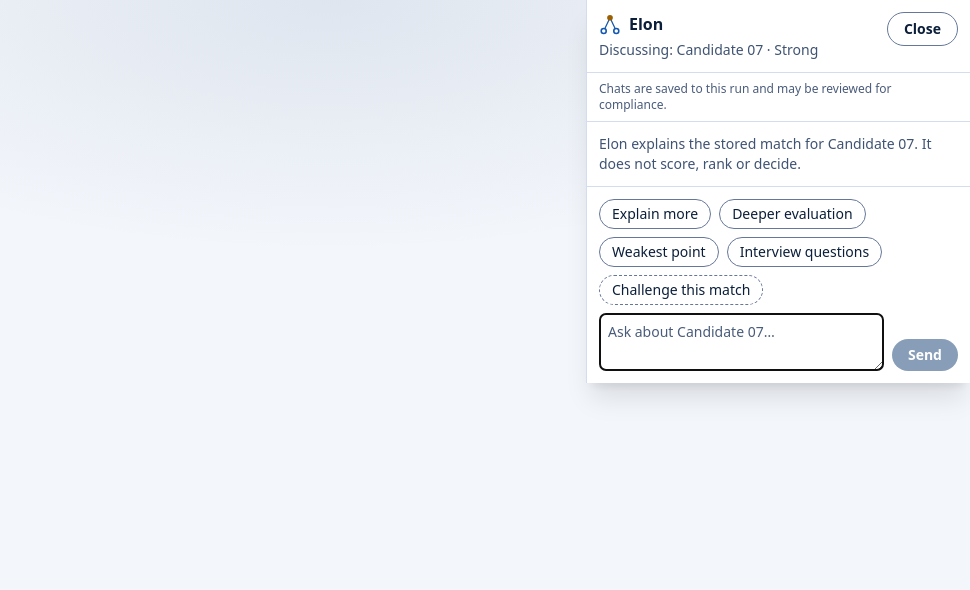
Scenario: assistant panel › shows a declined request plainly and offers job-related alternatives
Type "How old is she?" into the text box. click: (741, 342)
box: [599, 313, 884, 371]
Then press Enter
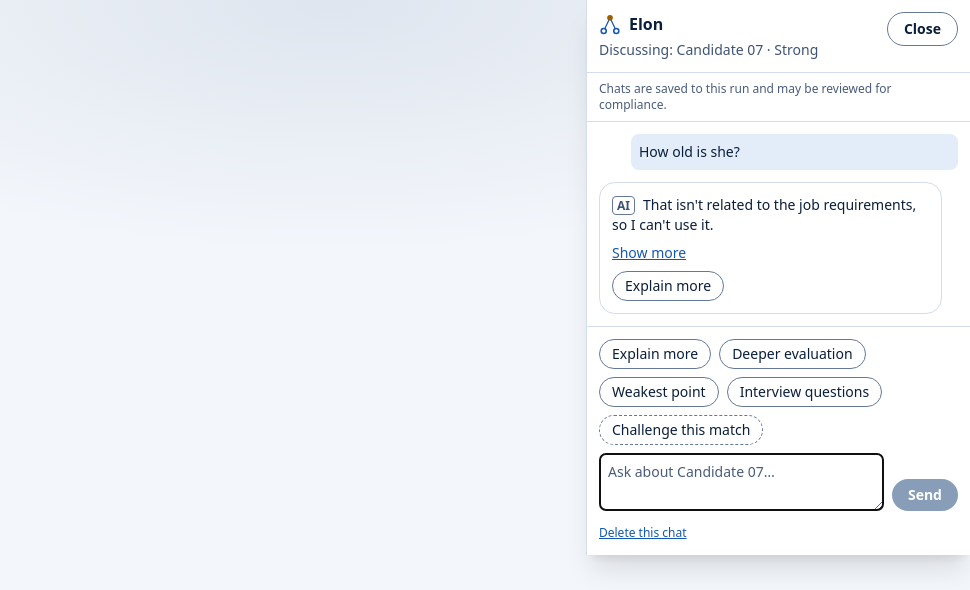
Result: the text "isn't related to the job requirements" is shown at [612, 195, 916, 234]
Result: the number of buttons "Explain more" is 2 at [612, 271, 724, 301]; [599, 339, 711, 369]
